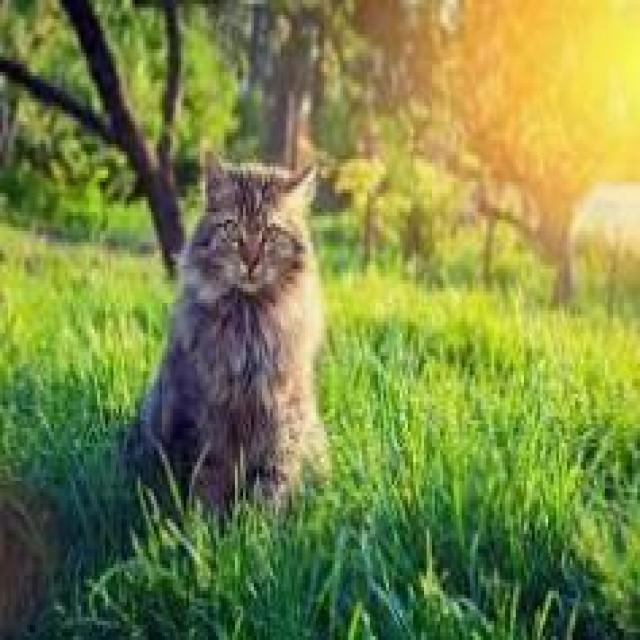Gato: (138, 136, 335, 534)
